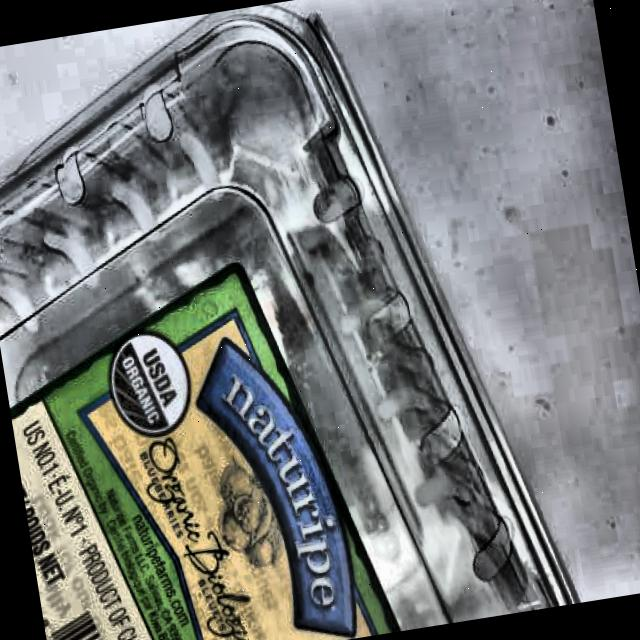plastic: (0, 0, 581, 640)
